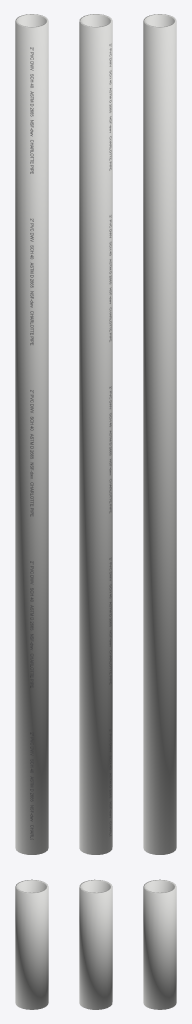
The model's file is pipes_dwv__sump-no.glb.
3 renders of one model, left to right at view 1: azimuth 90°, elevation 25°; view 2: azimuth 150°, elevation 25°; view 3: azimuth 270°, elevation 25°, orthographic.
Parts seen in each view (by area): view 1: vent_dwv_hallbath_stack; view 2: vent_dwv_hallbath_stack; view 3: vent_dwv_hallbath_stack.
Part boxes in pixels (x1,y1,x2,y2): vent_dwv_hallbath_stack: (15,14,48,1009); vent_dwv_hallbath_stack: (79,14,112,1009); vent_dwv_hallbath_stack: (143,14,176,1009).
Size of the model in its own units: 0.0608 by 1.96 by 0.0601.
2 materials, 1 textured.
